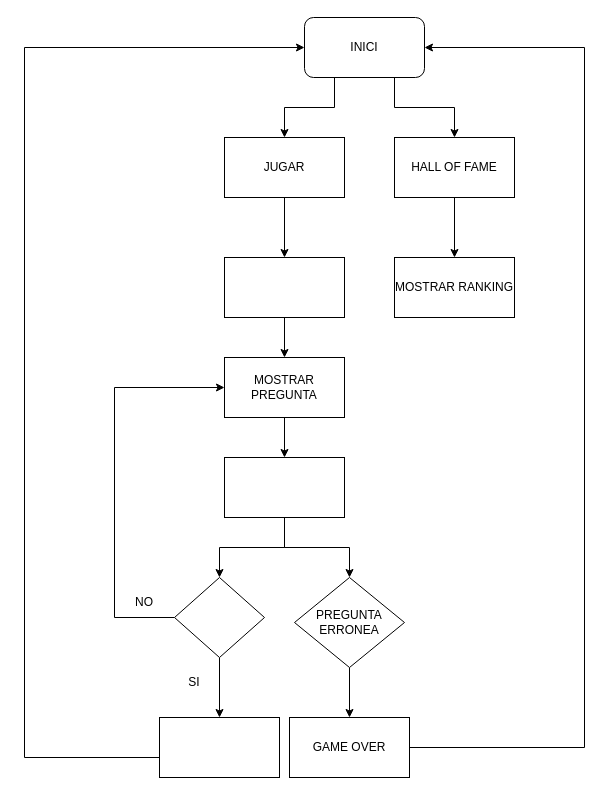
This 610x795 diagram has some shape labels left out. Each missing label, with the centre of its shape:
"PANTALLA DE JOC" belongs at (284,287).
"PANTALLA GUANYADOR" belongs at (219,747).
"PREG >= 18" belongs at (219,617).
"SELECCIONAR RESPOSTA" belongs at (284,487).
